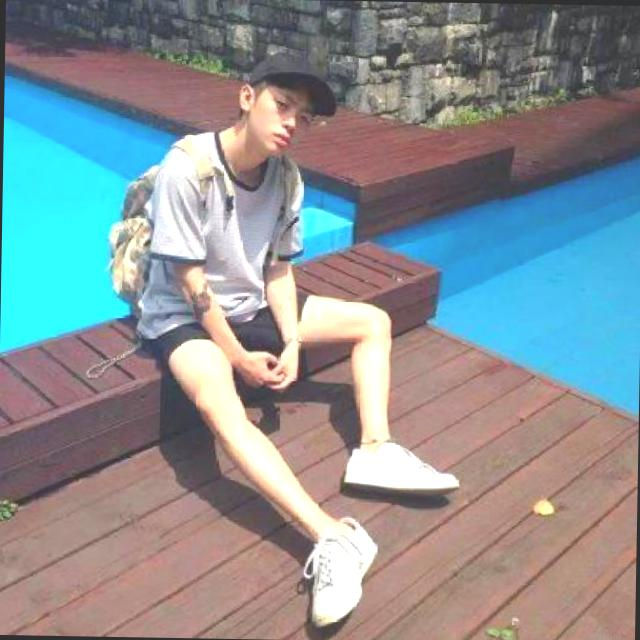Person: (111, 41, 492, 606)
